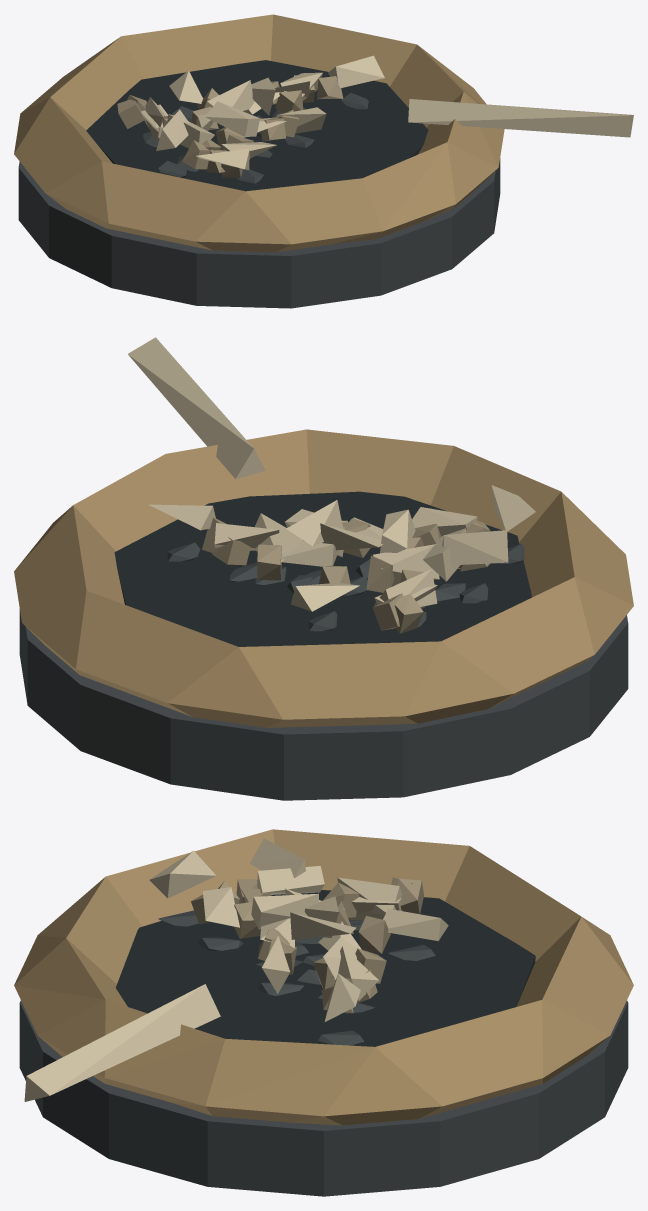
File: full_ashtray.glb
3 views of the same model, one above another, from view 1: azimuth 30°, elevation 25°; view 2: azimuth 150°, elevation 25°; view 3: azimuth 270°, elevation 25° (orthographic). The views are drawn at different scales.
Visible parts, largest first — view 1: full_ashtray; view 2: full_ashtray; view 3: full_ashtray.
Boxes of the visible parts, <box> form: full_ashtray: <box>14,14,633,308</box>; full_ashtray: <box>14,337,633,800</box>; full_ashtray: <box>14,829,633,1196</box>.
Size of the model in its own units: 0.2393 by 0.0601 by 0.214.
